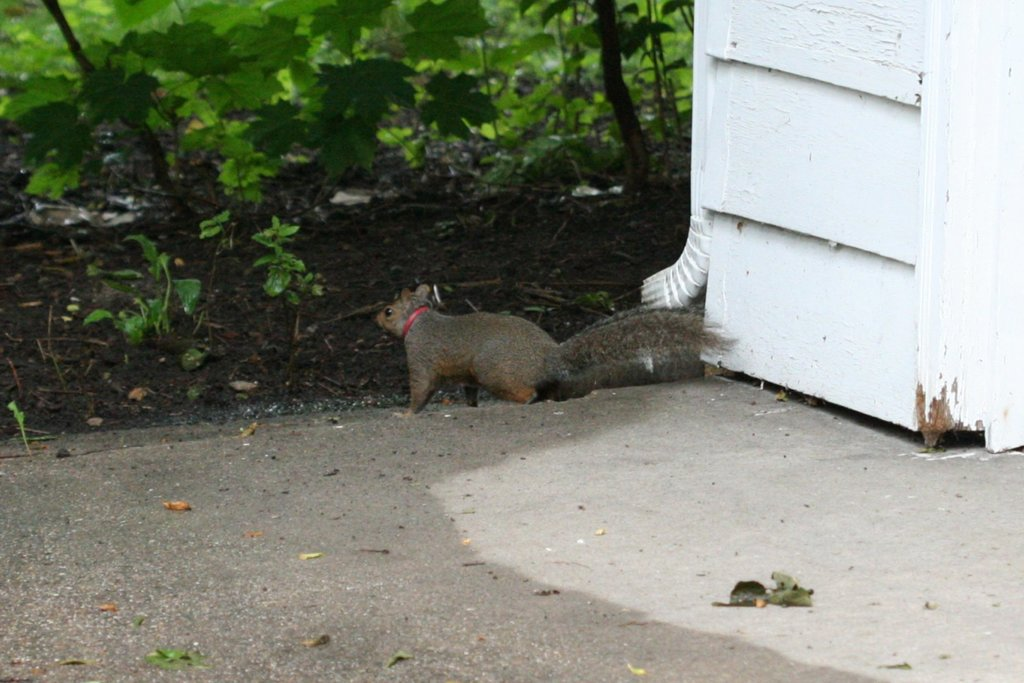Animal: (372, 289, 729, 409)
